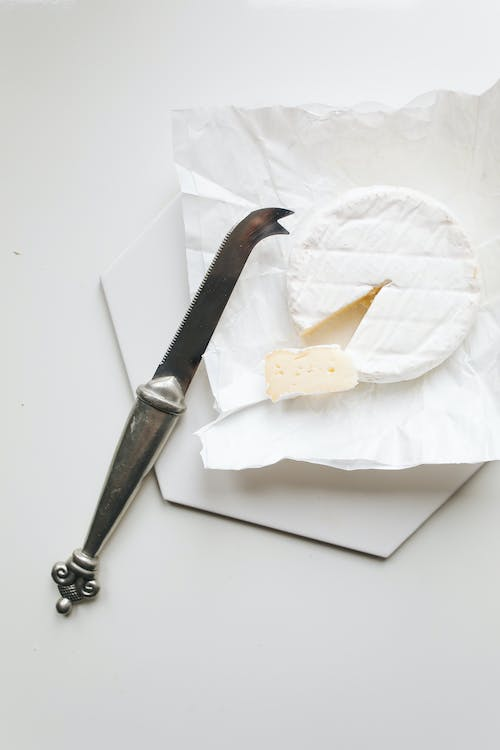knife: (45, 199, 293, 623)
